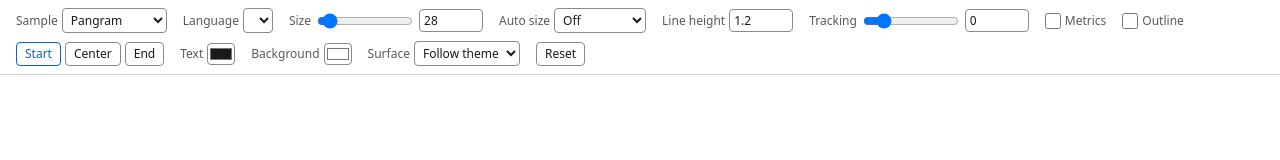
Test case: PreviewControls › applies a typed size only inside the bounds and clamps it on change
Replace the text in the number field named "Size in pixels" with "1" at x=451, y=20, box [419,9,483,32]
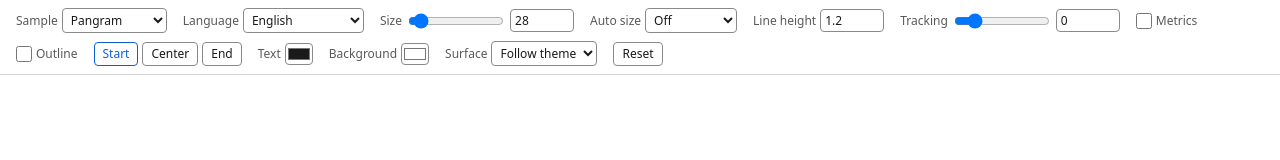
Replace the text in the number field named "Size in pixels" with "120" at x=542, y=20, box [510,9,574,32]
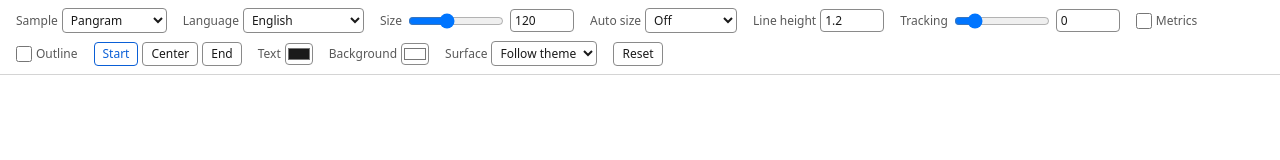
Replace the text in the number field named "Size in pixels" with "5000" at x=542, y=20, box [510,9,574,32]
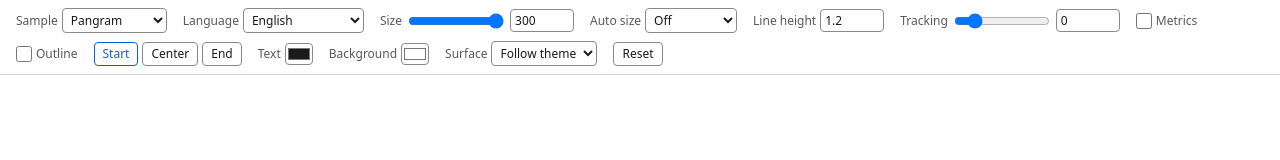
Result: the number field named "Size in pixels" holds "300" at [510,9,574,32]
